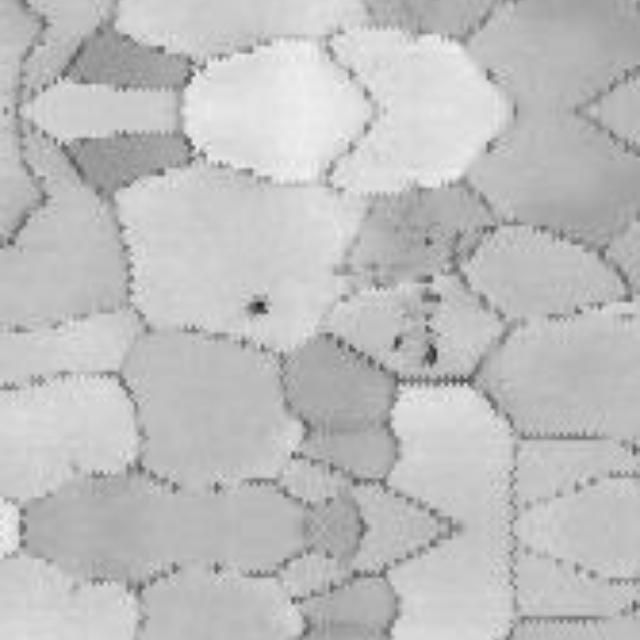good_void: (418, 342, 440, 370), (247, 292, 272, 316), (416, 288, 442, 306), (392, 335, 404, 351), (424, 236, 435, 248), (424, 323, 434, 336)
